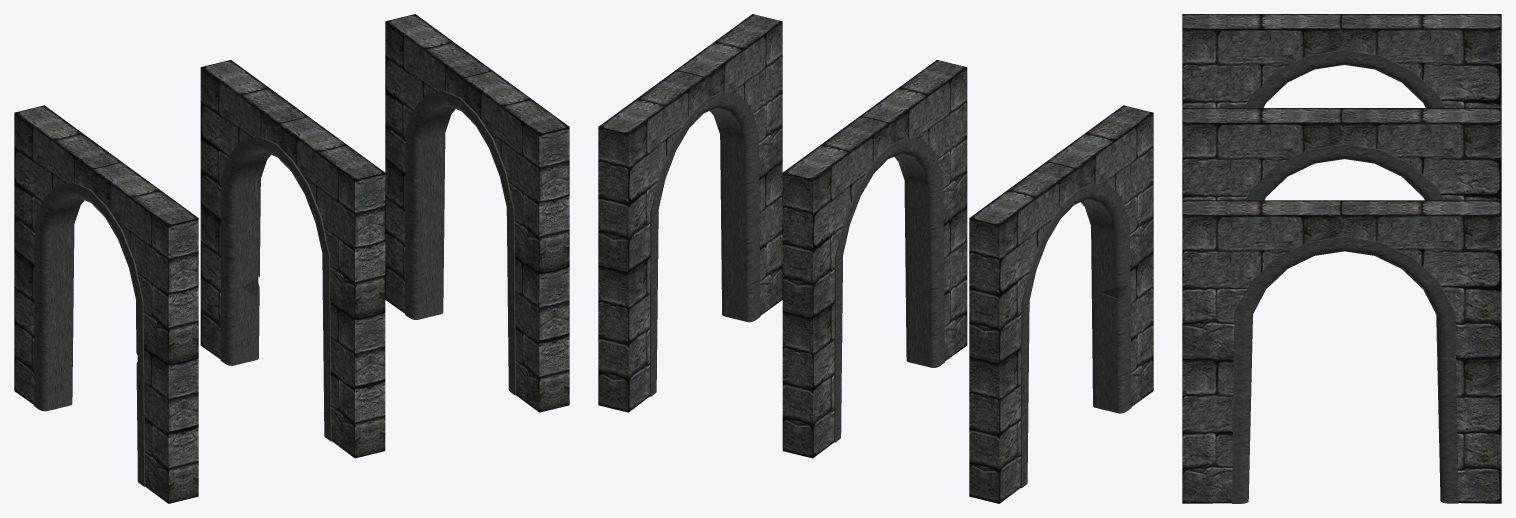
File: Arches.fbx
3 views of the same model, side by side, from view 1: azimuth 30°, elevation 25°; view 2: azimuth 150°, elevation 25°; view 3: azimuth 270°, elevation 25° (orthographic). The views are drawn at different scales.
Visible parts, largest first — view 1: Arch_B, Arch_A, Arch_C; view 2: Arch_B, Arch_A, Arch_C; view 3: Arch_A, Arch_C, Arch_B.
Boxes of the visible parts, x1,y1,x2,y2 form: Arch_B: (200, 60, 385, 458); Arch_A: (385, 14, 569, 412); Arch_C: (14, 105, 198, 503); Arch_B: (782, 60, 967, 458); Arch_A: (598, 14, 782, 412); Arch_C: (969, 105, 1153, 503); Arch_A: (1182, 200, 1501, 503); Arch_C: (1182, 14, 1501, 107); Arch_B: (1182, 108, 1501, 200).
Size of the model in its own units: 8.89 by 5.85 by 5.86.
